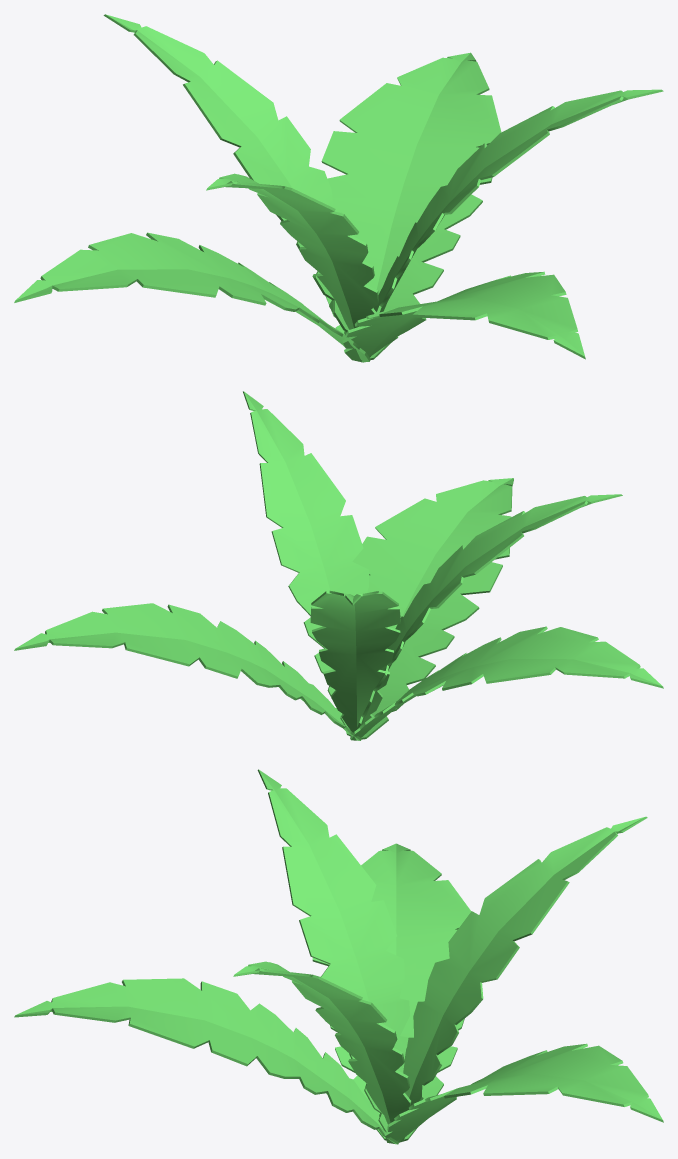
The model's file is leafes_2.fbx.
3 views of the same model, one above another, from view 1: azimuth 30°, elevation 25°; view 2: azimuth 150°, elevation 25°; view 3: azimuth 270°, elevation 25° (orthographic). The views are drawn at different scales.
Visible parts, largest first — view 1: leafes_2; view 2: leafes_2; view 3: leafes_2.
Part boxes in pixels (box(x1,y1,x2,y2)): leafes_2: box(14, 14, 663, 362); leafes_2: box(14, 391, 663, 740); leafes_2: box(14, 769, 663, 1144).
Bounding box in the file's own units: 874 × 395 × 864.
